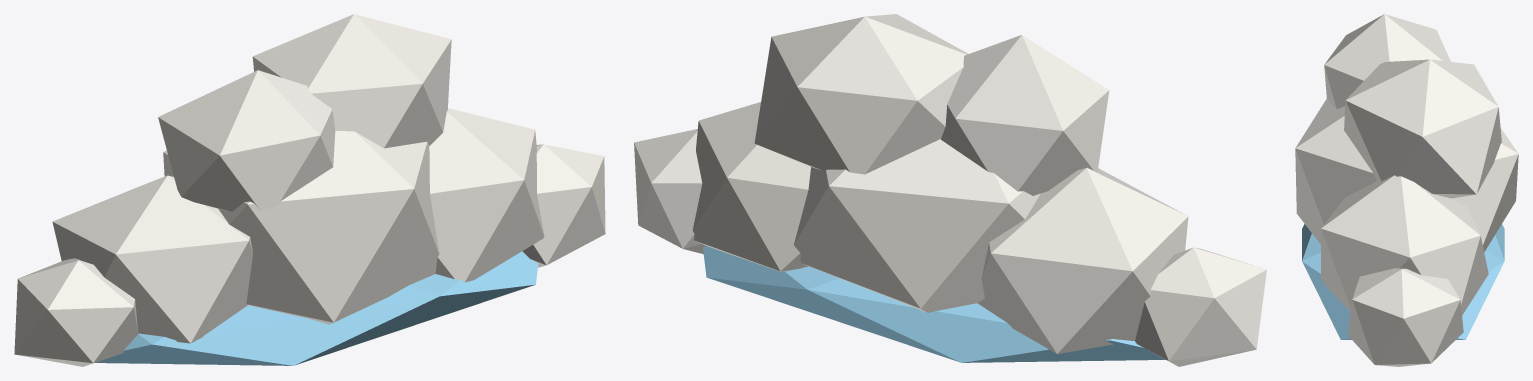
Rendered from Cloud.fbx.
3 renders of one model, left to right at view 1: azimuth 30°, elevation 25°; view 2: azimuth 150°, elevation 25°; view 3: azimuth 270°, elevation 25°, orthographic. The views are drawn at different scales.
Visible parts, largest first — view 1: Cloud; view 2: Cloud; view 3: Cloud.
Part boxes in pixels (x1=…): Cloud: x1=14, y1=14, x2=605, y2=366; Cloud: x1=634, y1=14, x2=1266, y2=366; Cloud: x1=1295, y1=14, x2=1518, y2=366.
Size of the model in its own units: 7.36 by 3.48 by 2.81.
Materials: 1 (1 with a texture image).
